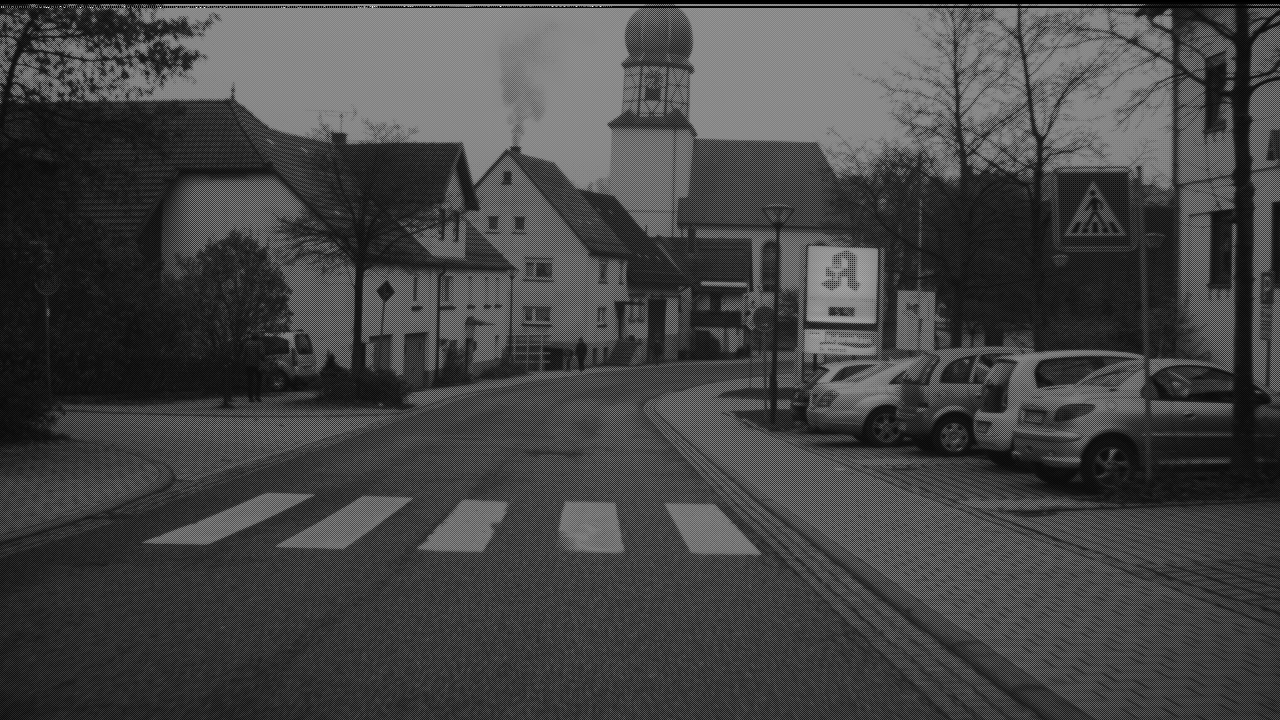pole: (768, 219, 782, 415)
